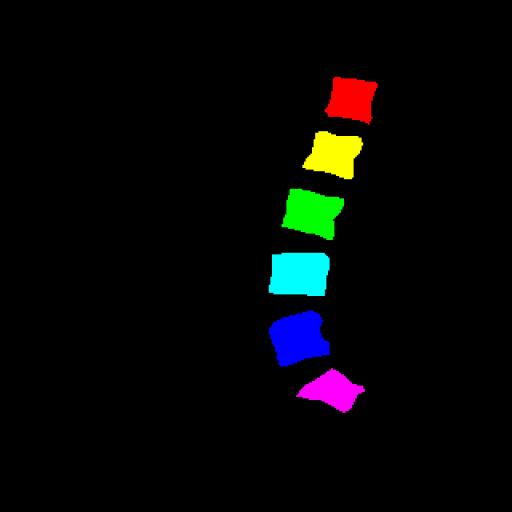L1: (325, 77, 378, 124)
L2: (303, 131, 363, 179)
L3: (282, 189, 344, 240)
L4: (269, 253, 330, 296)
L5: (269, 310, 329, 366)
S1: (297, 369, 365, 412)
